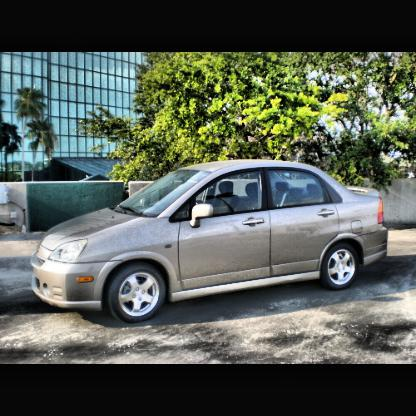Suzuki Aerio Sedan 2007: (31, 161, 392, 326)
